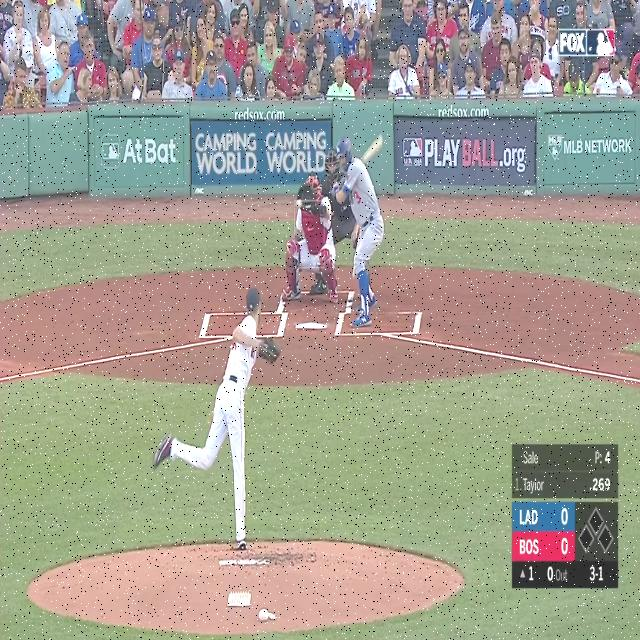baseball: (296, 199, 302, 208)
